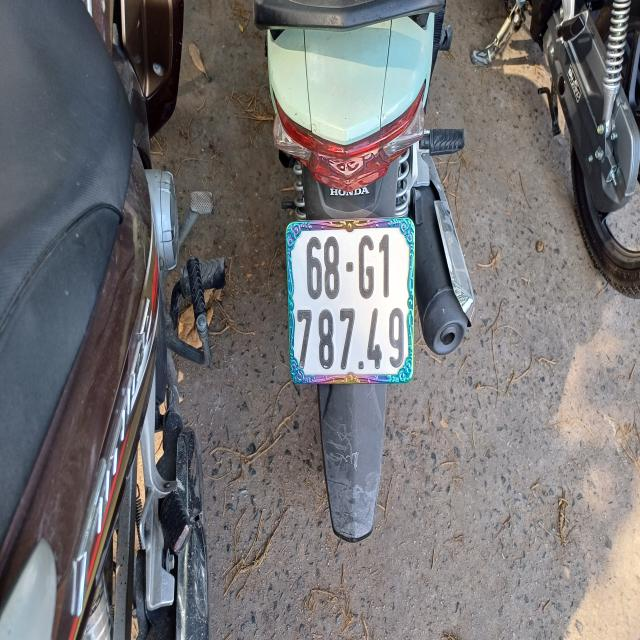1: (379, 231, 392, 297)
4: (367, 306, 386, 369)
7: (295, 304, 313, 376), (339, 302, 357, 374)
8: (319, 306, 337, 372), (324, 234, 342, 298)
9: (389, 305, 409, 370)
G: (357, 233, 376, 300)
